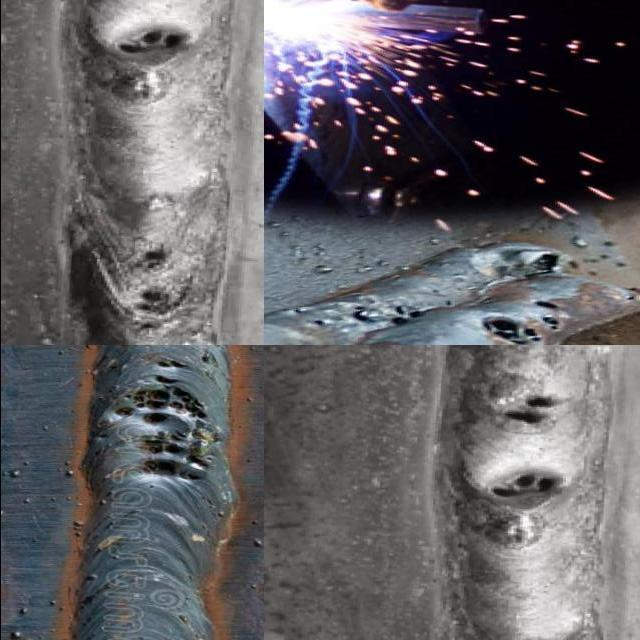defect: (468, 466, 575, 513), (112, 373, 209, 424), (479, 294, 568, 345), (485, 388, 576, 432), (139, 428, 210, 482), (106, 24, 196, 58), (490, 248, 564, 281), (129, 282, 175, 332), (131, 240, 179, 278), (387, 304, 428, 326), (344, 305, 378, 324), (156, 357, 189, 369), (619, 293, 638, 301), (442, 299, 457, 308), (429, 290, 447, 297), (311, 319, 328, 326), (293, 309, 303, 313)
